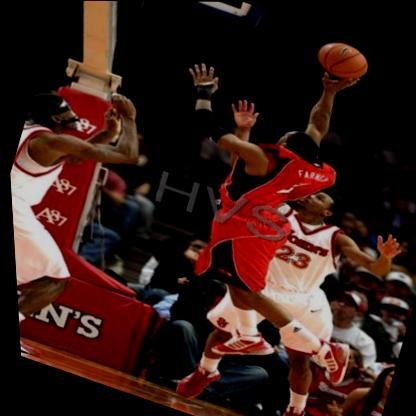basketball: (311, 34, 372, 85)
